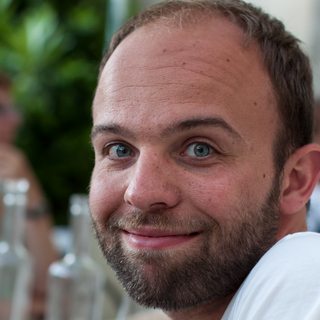eye: (175, 138, 226, 164), (101, 138, 141, 164)
